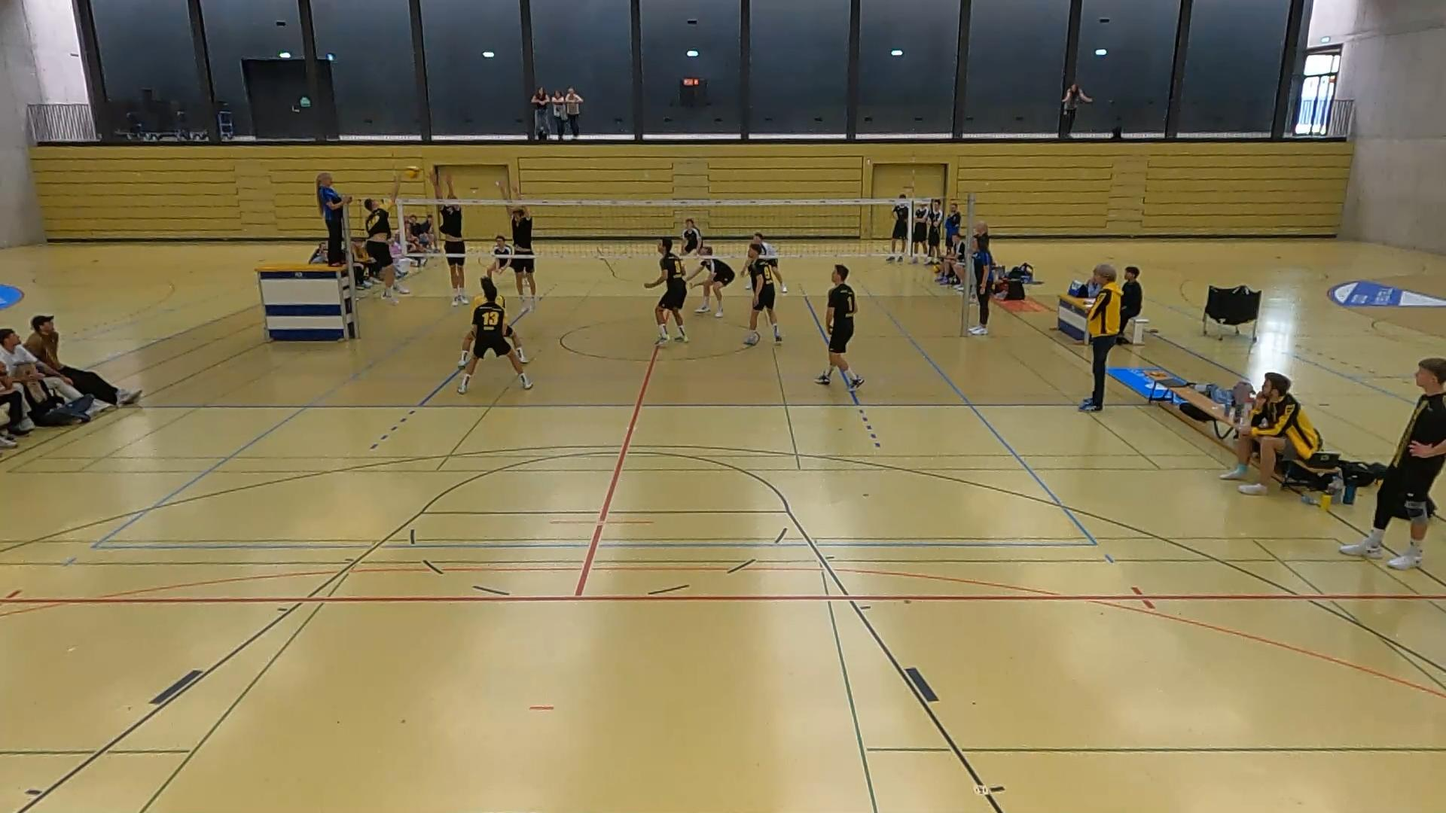attacco: (344, 192, 415, 307)
muro: (426, 165, 473, 311), (496, 179, 541, 316)
